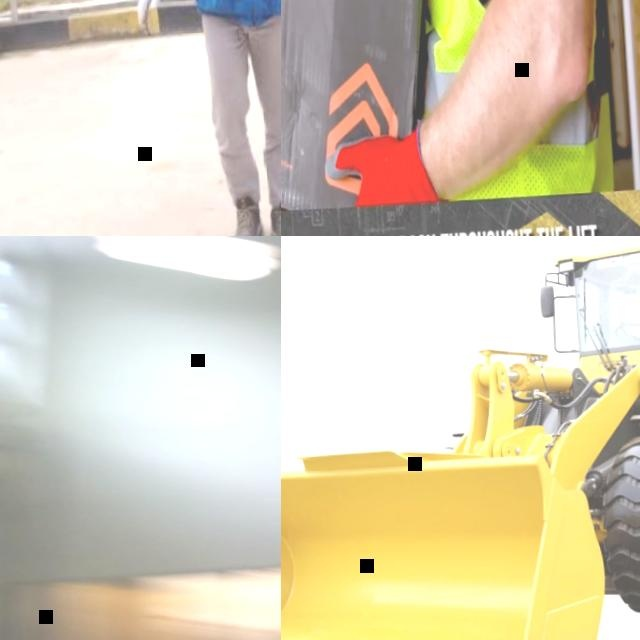Person: (293, 0, 622, 207), (113, 0, 281, 236)
Safety Vest: (389, 0, 620, 199)
machinery: (281, 236, 640, 640)
